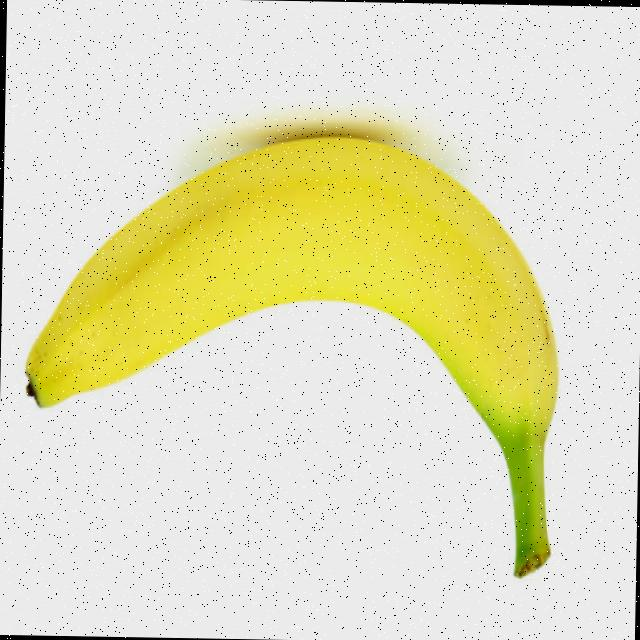Ripe: (15, 124, 568, 578)
